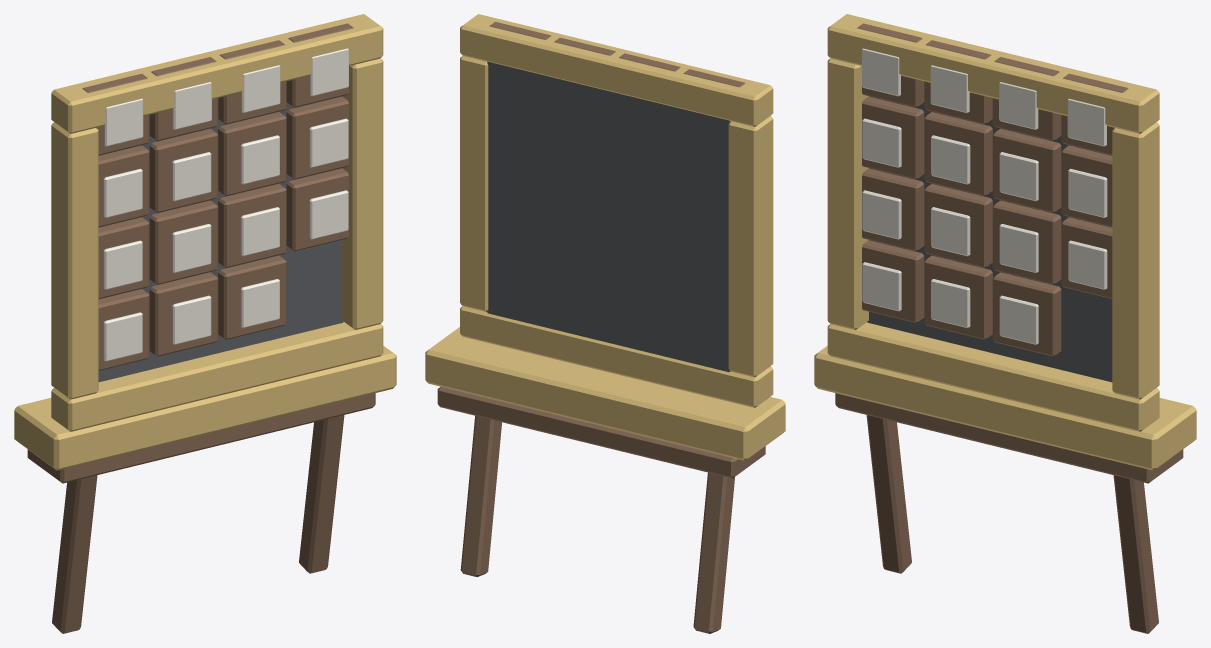
The model's file is escape-room-and-puzzle-venue-sliding-tile-puzzle-frame-039fbe26__35791.glb.
3 views of the same model, side by side, from view 1: azimuth 30°, elevation 25°; view 2: azimuth 150°, elevation 25°; view 3: azimuth 330°, elevation 25° (orthographic). The views are drawn at different scales.
Parts seen in each view (by area): view 1: sliding-tile-puzzle-frame; view 2: sliding-tile-puzzle-frame; view 3: sliding-tile-puzzle-frame.
Boxes of the visible parts, box(x1,y1,x2,y2) form: sliding-tile-puzzle-frame: box(14, 14, 396, 633); sliding-tile-puzzle-frame: box(425, 14, 785, 633); sliding-tile-puzzle-frame: box(814, 14, 1196, 633).
Bounding box in the file's own units: 0.5 × 0.783 × 0.1112.
